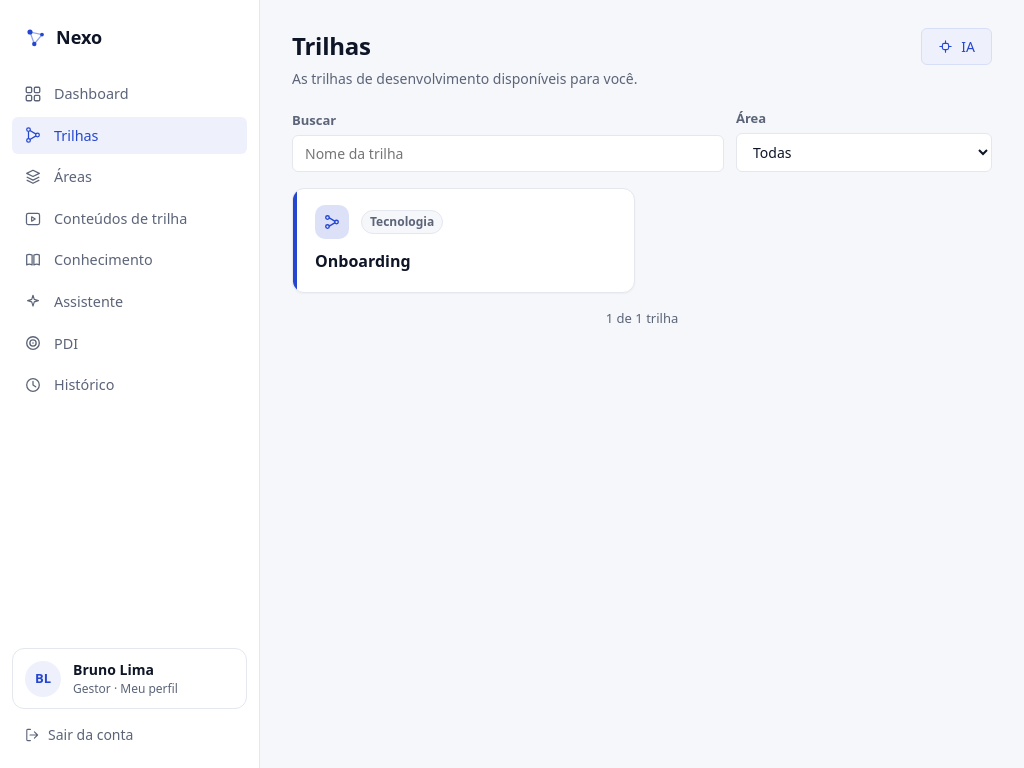
Test: PdiPage — gestão no menu › o PDI tem item próprio no menu da gestão
This screenshot has width=1024, height=768.
Click the link "PDI": [51, 343] box [24,334,78,353]
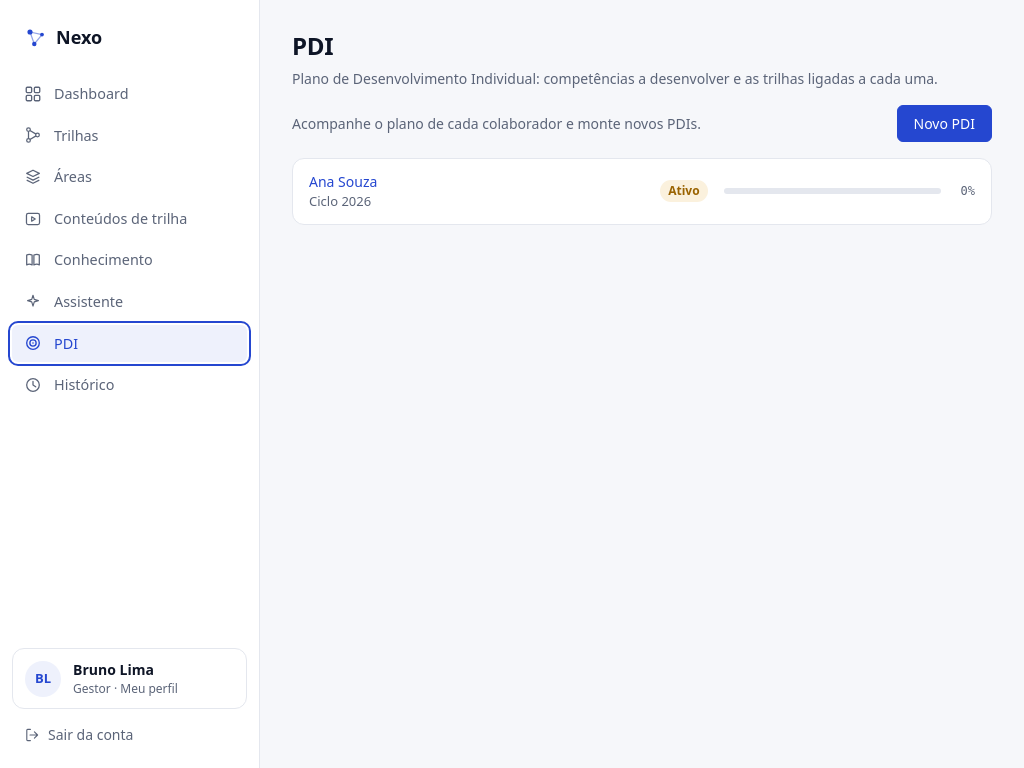
Expected: the heading "PDI" is shown, [292,29,334,62]
